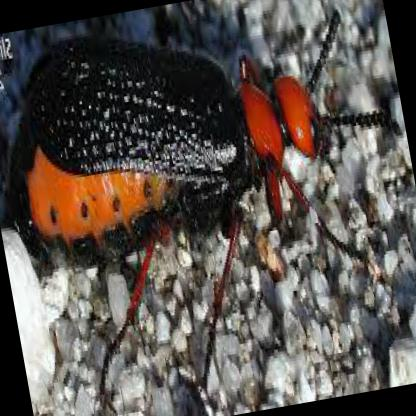blister beetle: (3, 8, 403, 382)
